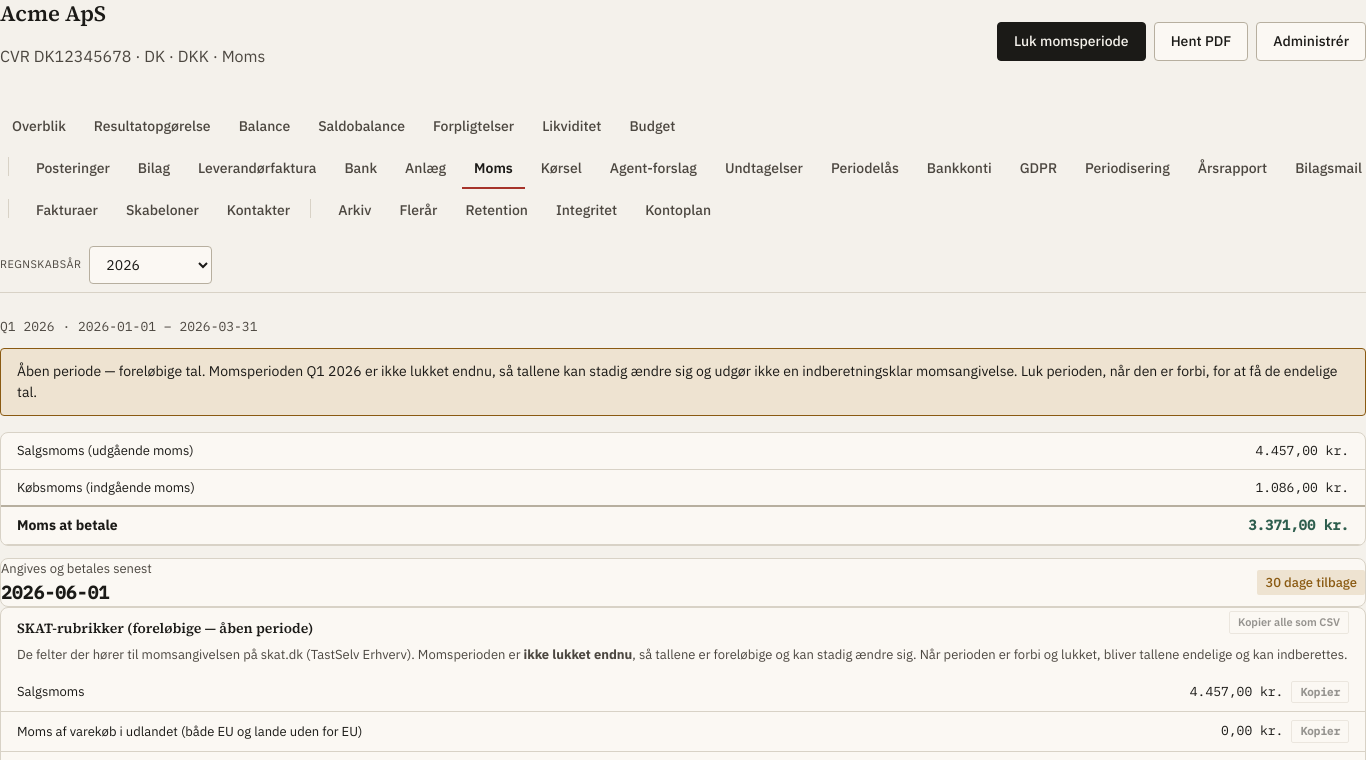
Scenario: VatView — Moms › a backup-lock 409 on close is shown kindly
Click the button "Luk momsperiode". click: (1071, 42)
box: x1=997 y1=22 x2=1146 y2=61
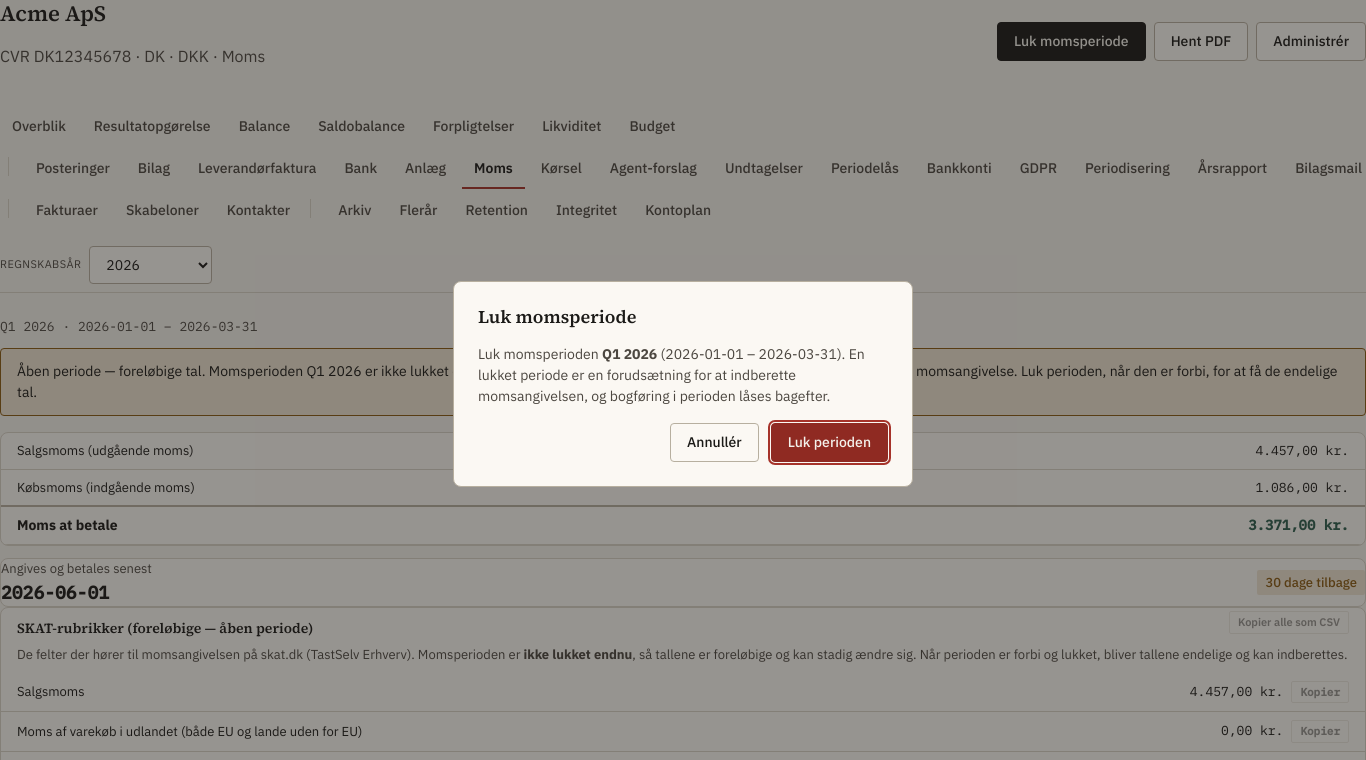
Click the button "Luk perioden". click: (829, 443)
box: x1=771 y1=423 x2=888 y2=462
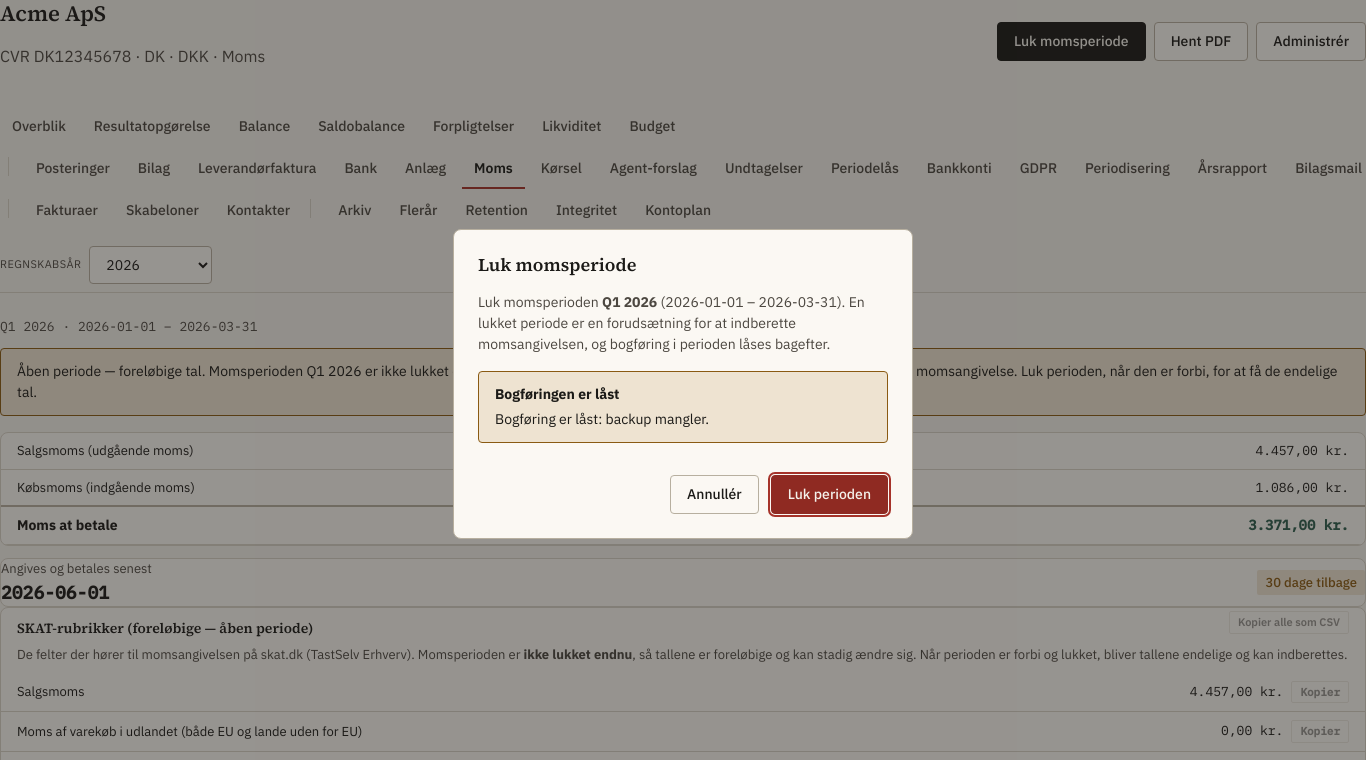
Expected: the text "Bogføring er låst: backup mangler." is shown, x1=495 y1=410 x2=709 y2=428
